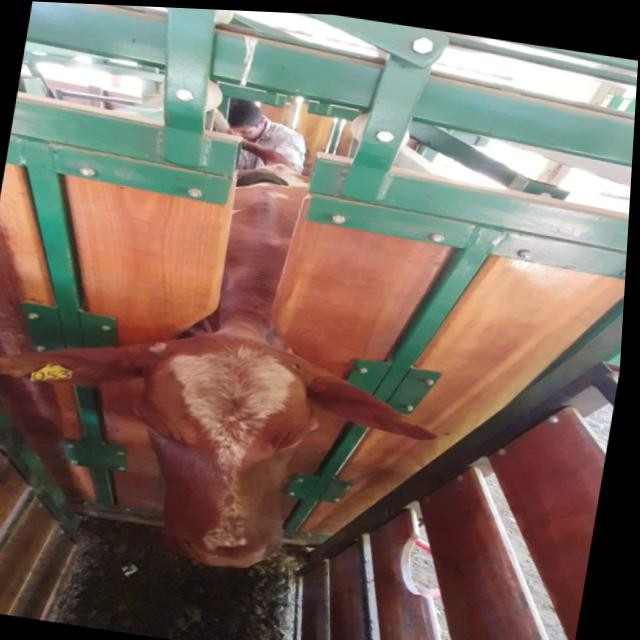cowFace: (121, 320, 344, 579)
